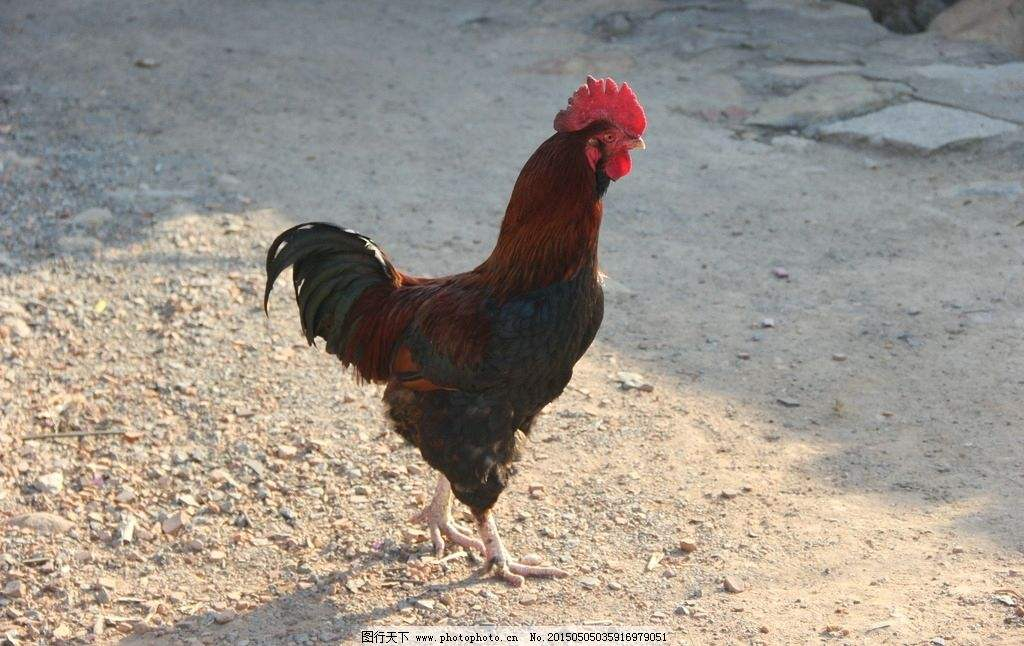chicken: (267, 70, 649, 588)
